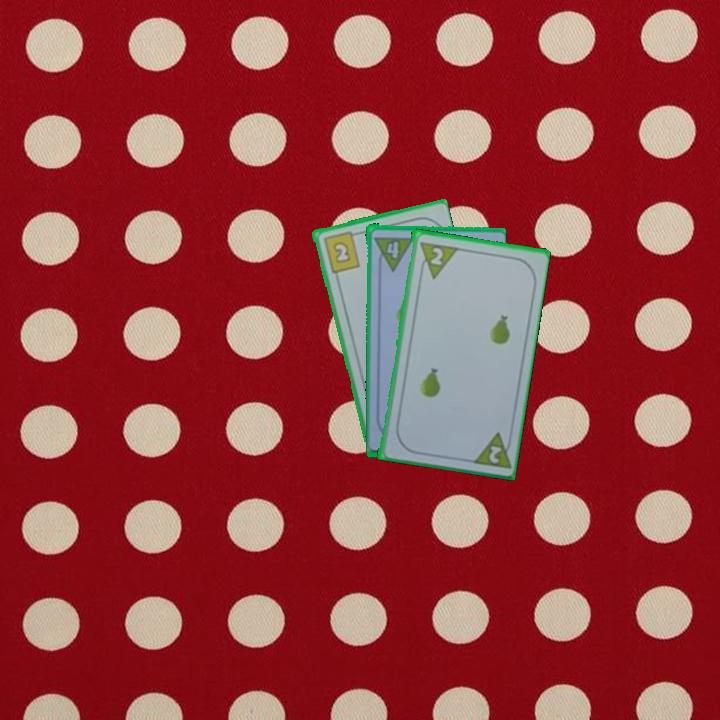2b: (320, 228, 362, 275)
2p: (426, 243, 446, 268), (485, 442, 504, 466)
4p: (370, 233, 415, 272)
